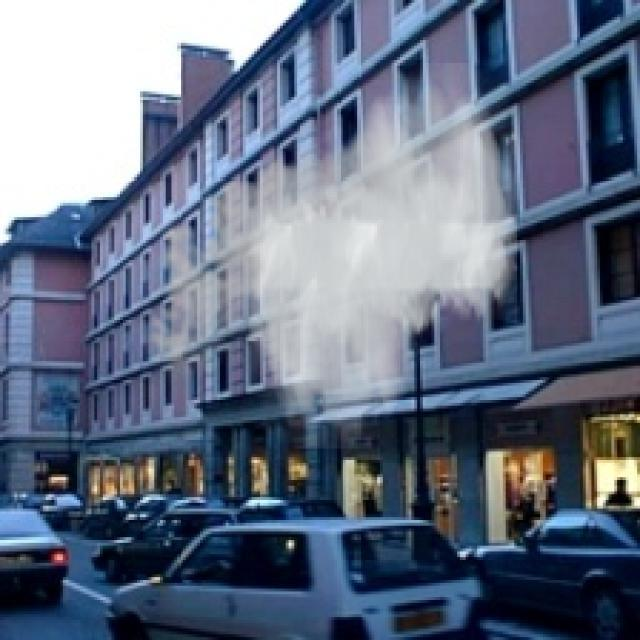Smoke: (137, 62, 517, 448)
